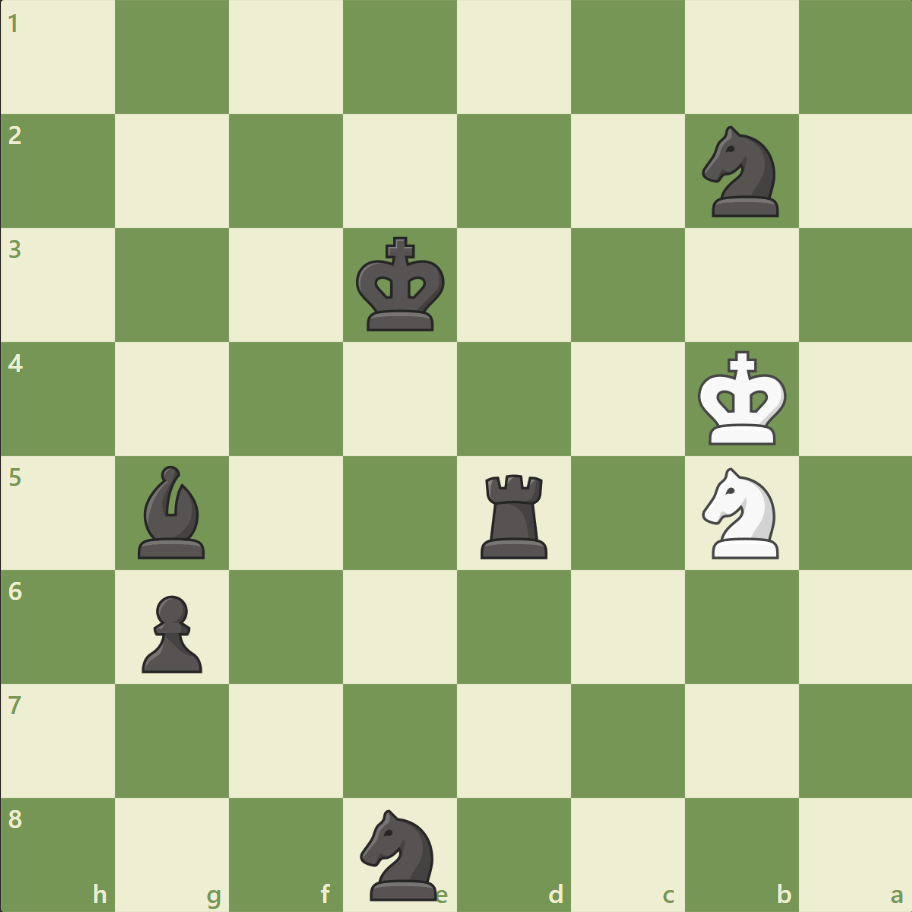K: (692, 344, 792, 452)
N: (692, 461, 789, 564)
b: (131, 460, 215, 563)
k: (351, 231, 451, 339)
n: (351, 802, 449, 904), (692, 121, 789, 223)
p: (133, 586, 208, 677)
r: (473, 466, 556, 563)
